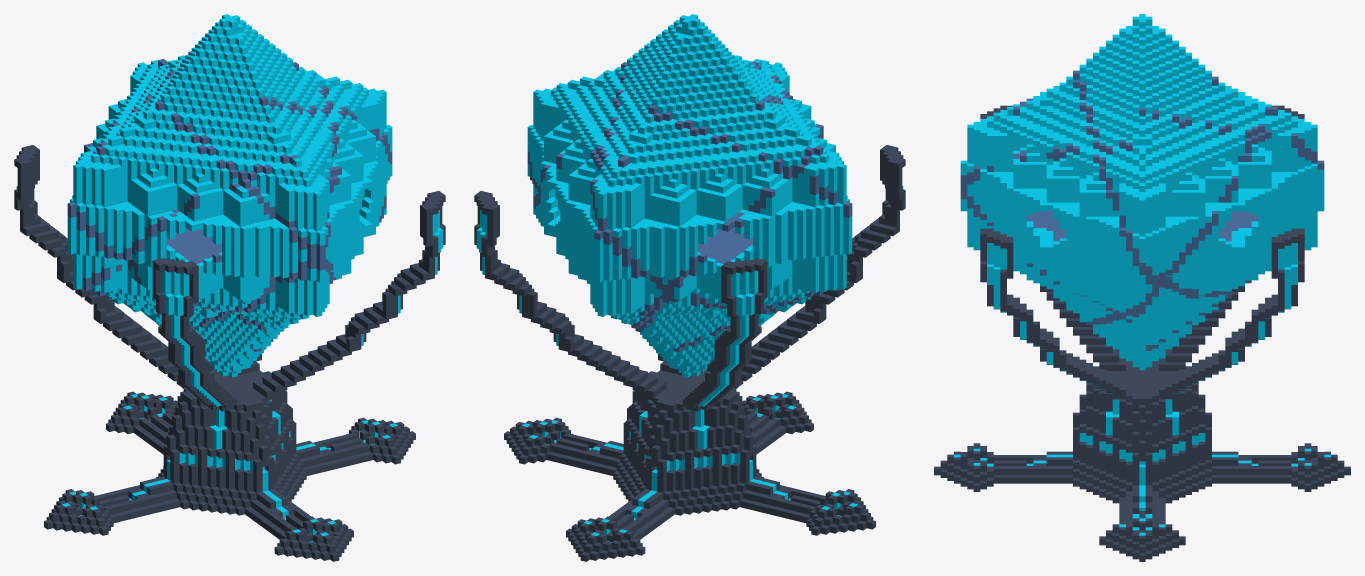
Rendered from Crystal.obj.
The picture shows the model from 3 angles, left to right: view 1: azimuth 30°, elevation 25°; view 2: azimuth 150°, elevation 25°; view 3: azimuth 270°, elevation 25°; orthographic projection. The views are drawn at different scales.
Bounding box in the file's own units: 6.3 × 7.6 × 6.3.
Materials: 1 (1 with a texture image).
